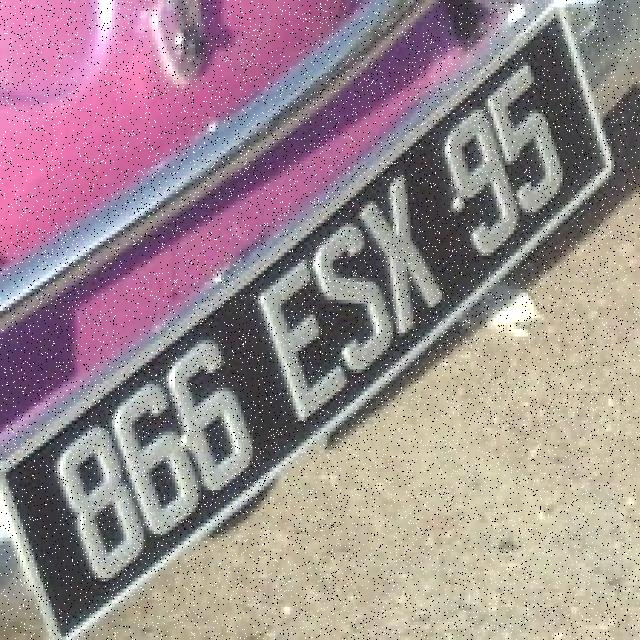licenseplate: (4, 0, 628, 640)
